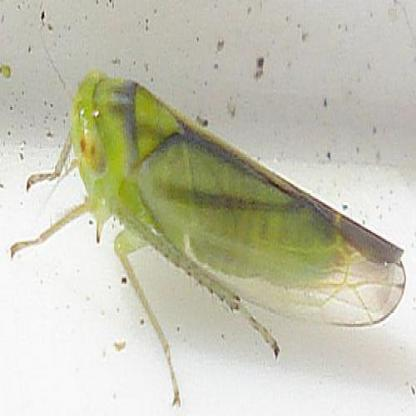green-leafhopper: (7, 68, 408, 408)
